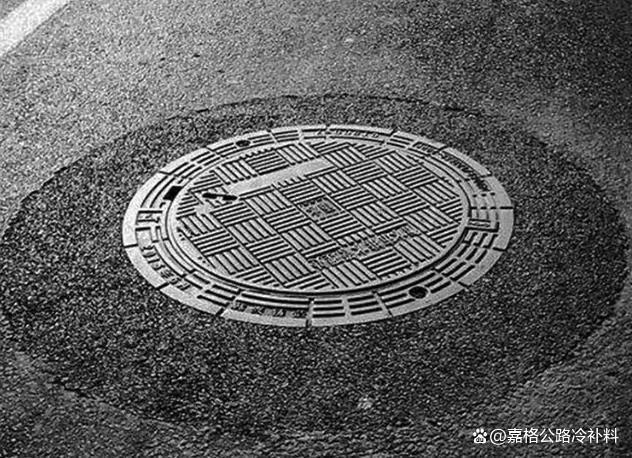wellcover: (112, 120, 518, 325)
